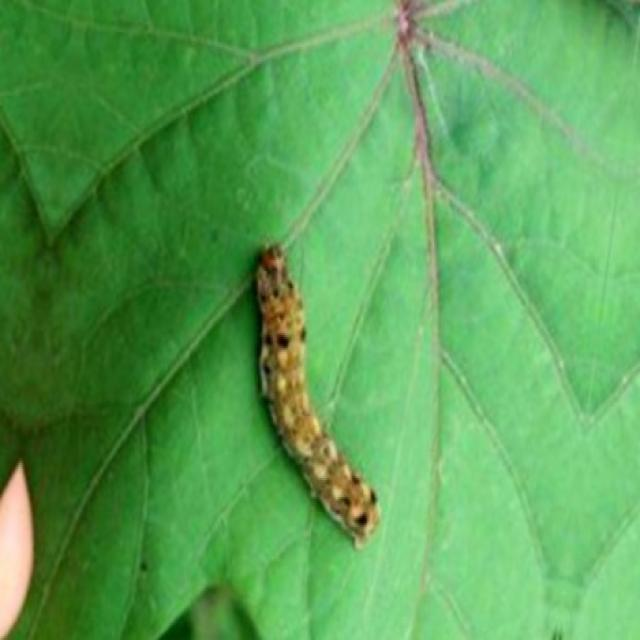Armyworm: (223, 195, 405, 557)
